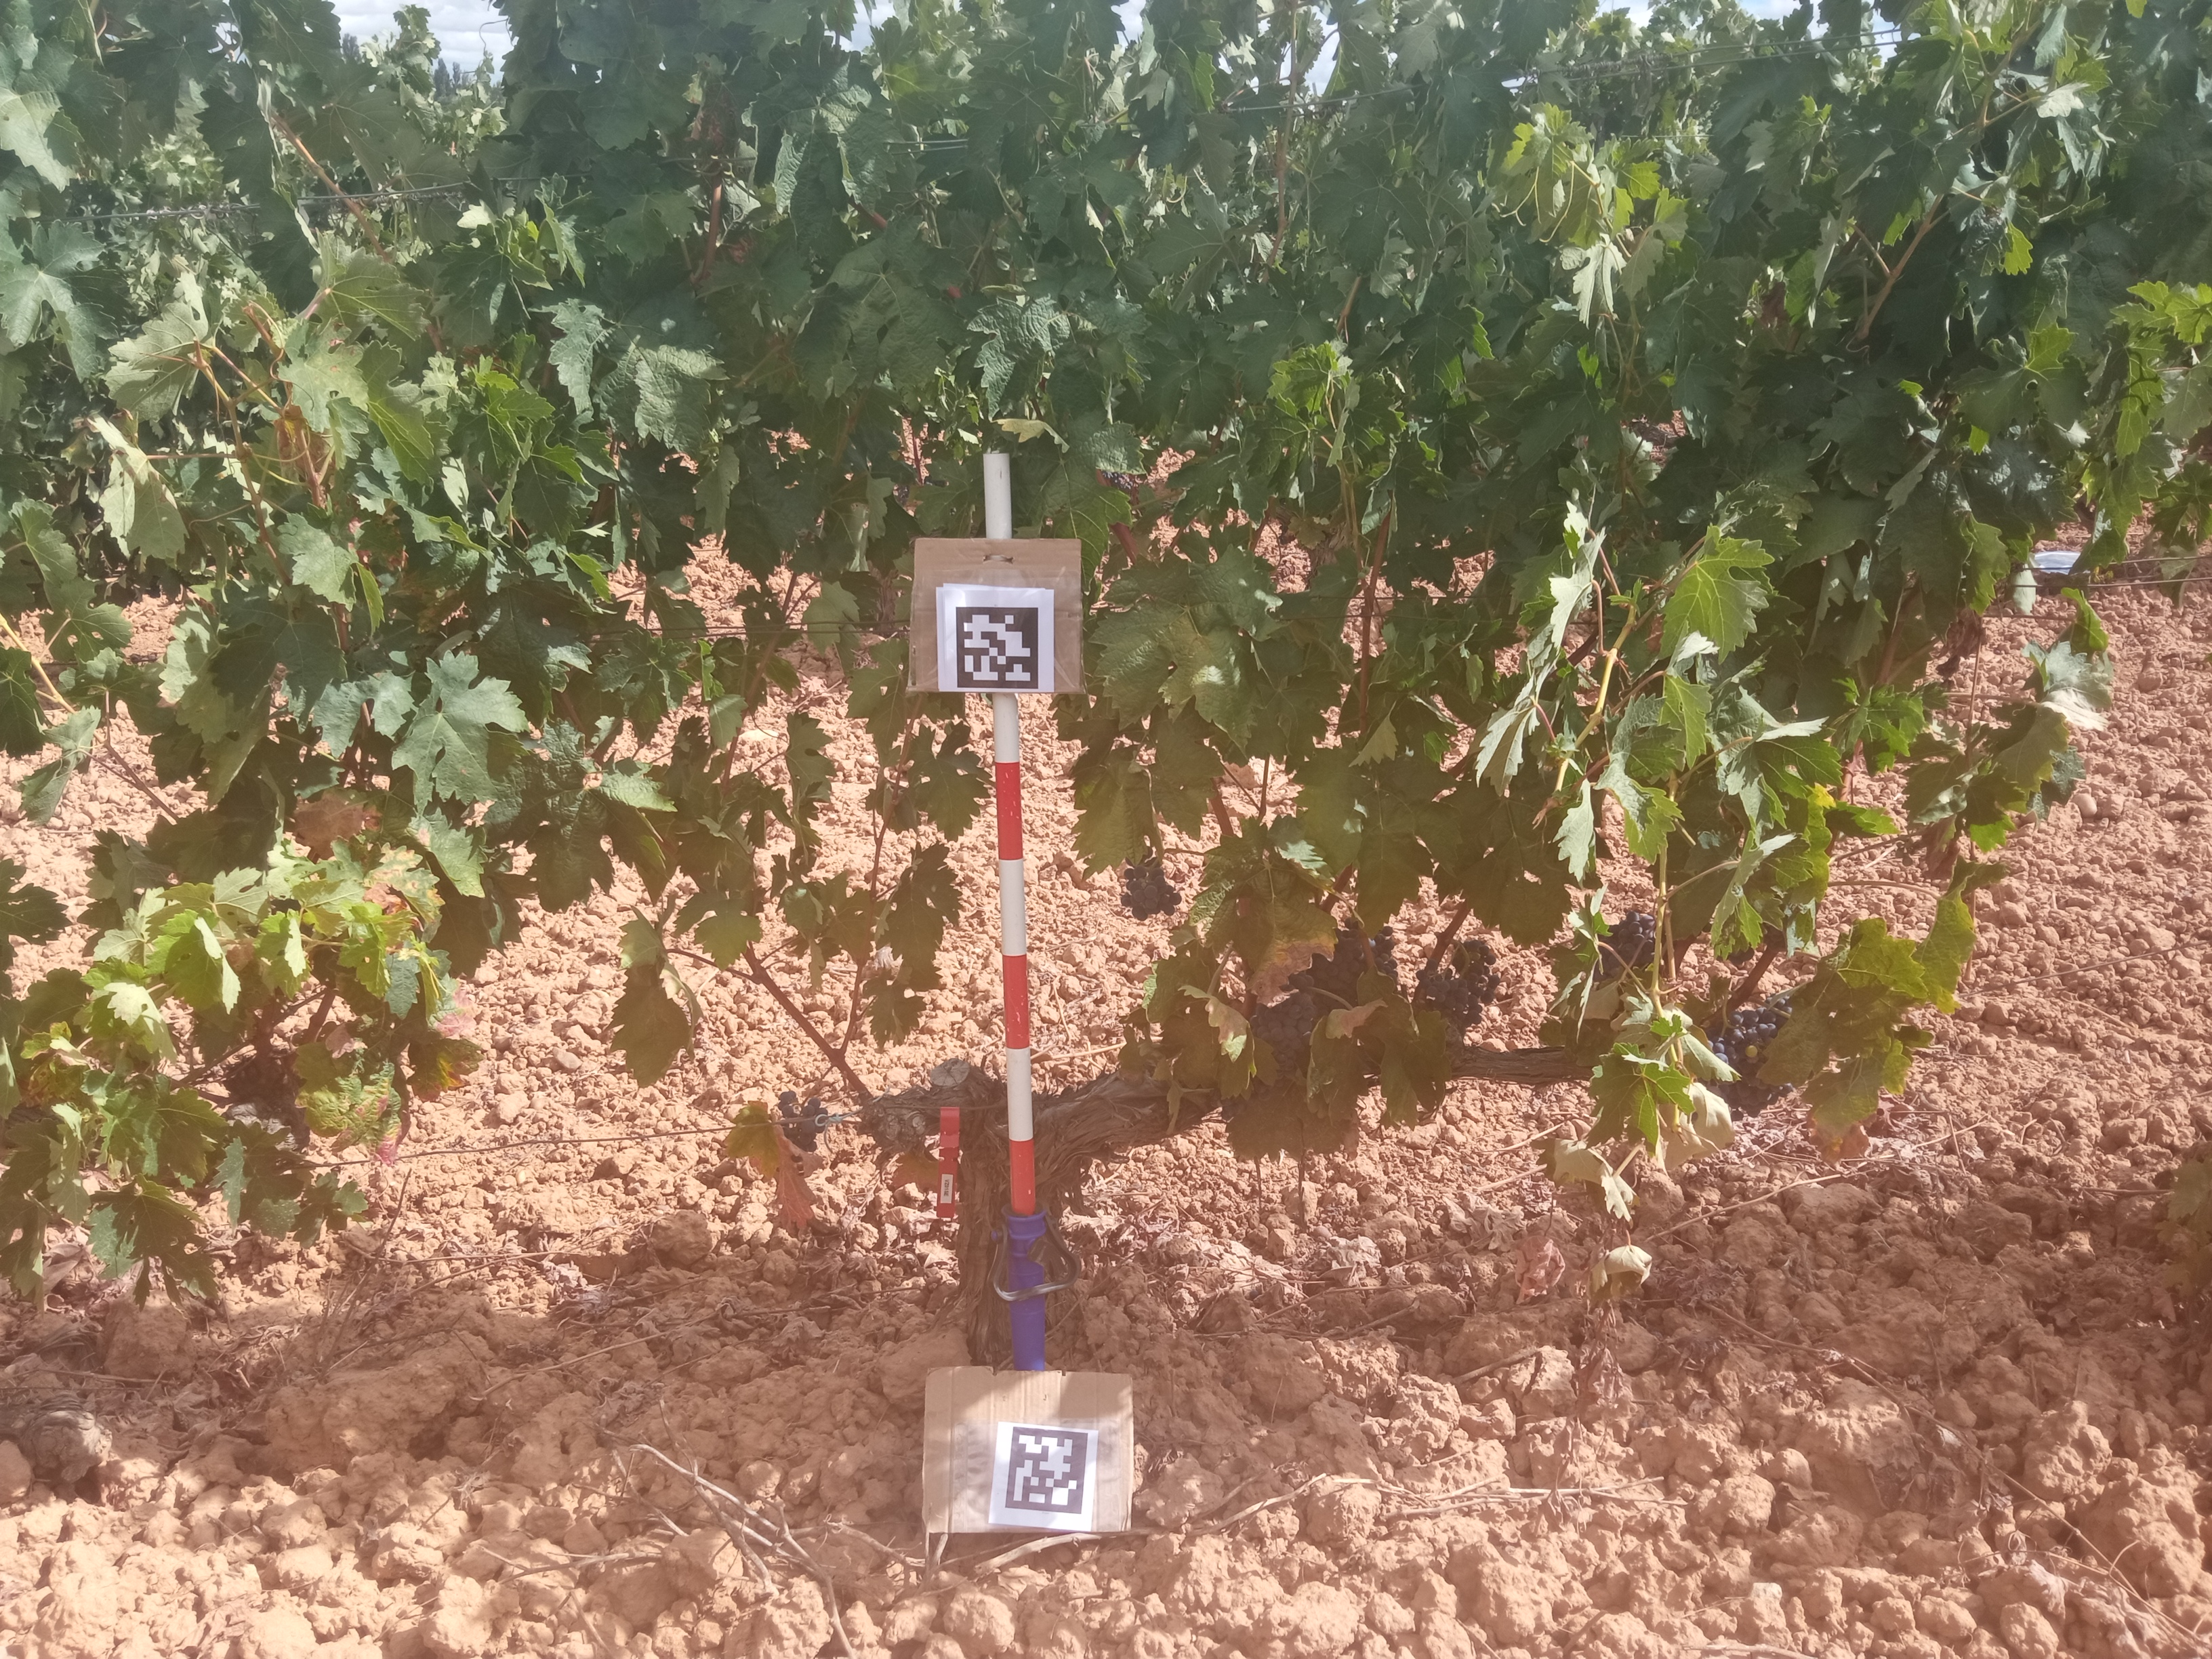grapes: (1418, 939, 1501, 1028), (1249, 972, 1317, 1073), (1709, 992, 1796, 1061), (1717, 1065, 1792, 1115), (1313, 929, 1360, 1009), (1122, 864, 1183, 922), (1602, 910, 1655, 976), (777, 1091, 831, 1150), (1221, 1084, 1271, 1122), (1372, 924, 1404, 976)
